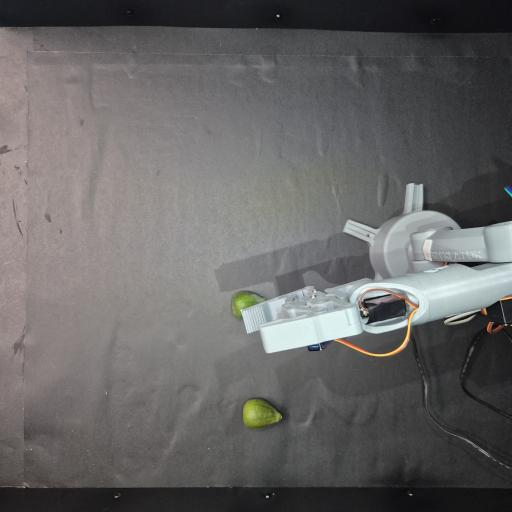higo: (243, 398, 282, 428), (232, 291, 265, 319)
